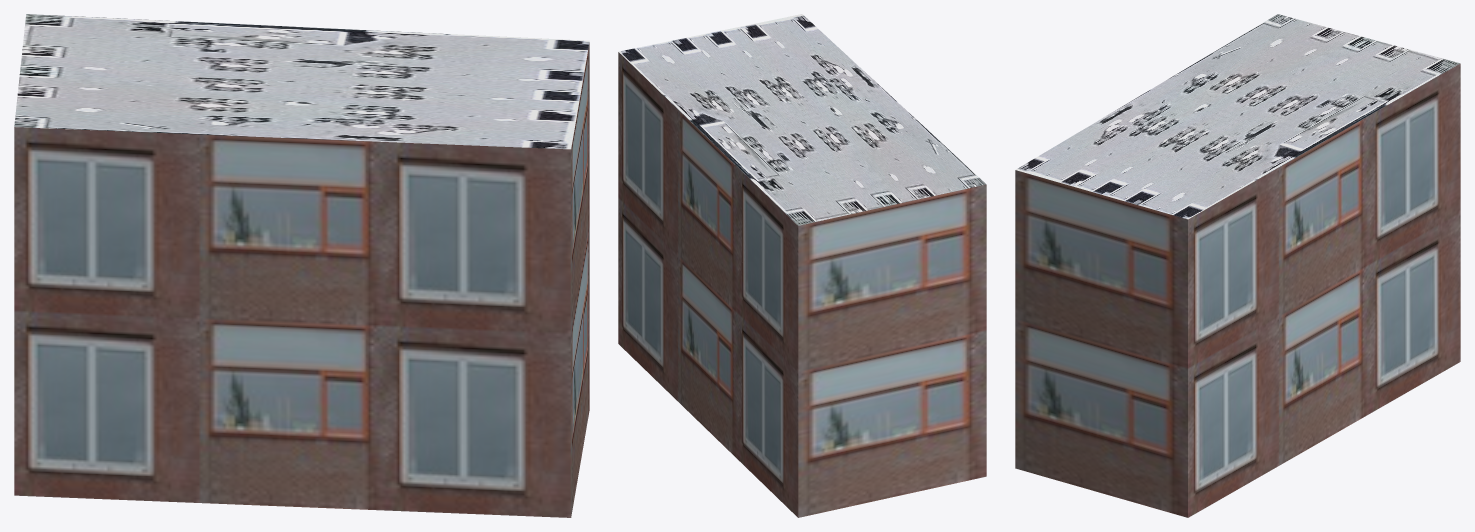
Rendered from ResTex__1370.fbx.
3 views of the same model, side by side, from view 1: azimuth 30°, elevation 25°; view 2: azimuth 150°, elevation 25°; view 3: azimuth 270°, elevation 25° (orthographic). The views are drawn at different scales.
Parts seen in each view (by area): view 1: CityEngineMaterial_19_m, CityEngineMaterial_15_m; view 2: CityEngineMaterial_19_m, CityEngineMaterial_15_m; view 3: CityEngineMaterial_19_m, CityEngineMaterial_15_m.
Boxes of the visible parts, x1,y1,x2,y2 form: CityEngineMaterial_19_m: (14, 42, 589, 517); CityEngineMaterial_15_m: (14, 14, 589, 149); CityEngineMaterial_19_m: (618, 52, 986, 517); CityEngineMaterial_15_m: (618, 14, 986, 225); CityEngineMaterial_19_m: (1015, 63, 1460, 517); CityEngineMaterial_15_m: (1016, 14, 1460, 219).
Size of the model in its own units: 8.86 by 6 by 8.12.
2 materials, 2 textured.
